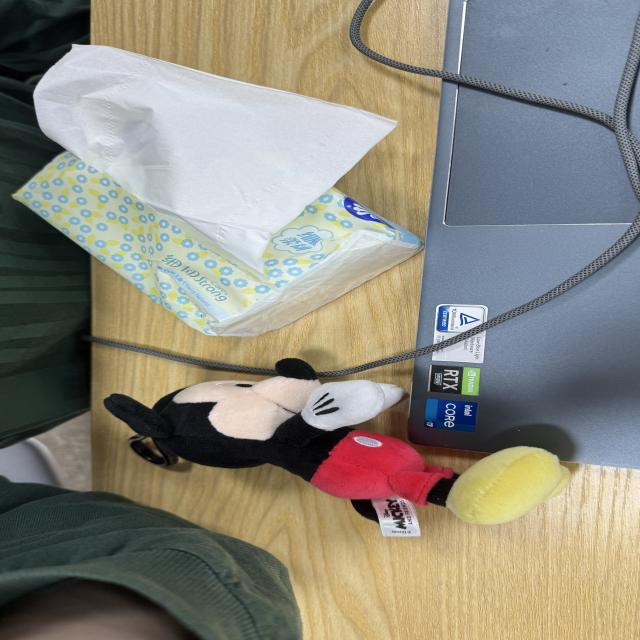mickey: (105, 359, 570, 523)
tissue: (15, 47, 422, 336), (35, 46, 396, 273), (14, 153, 422, 336)
